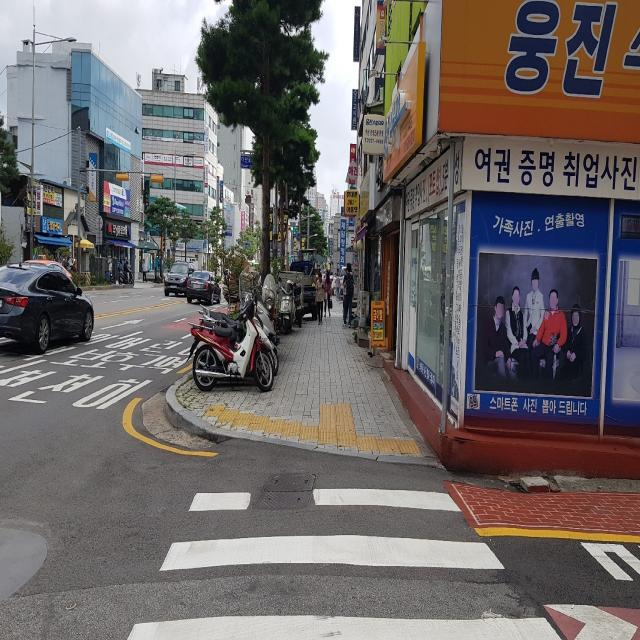횡단보도: (128, 489, 562, 640)
